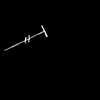treble_crochet: (25, 26, 46, 40)
